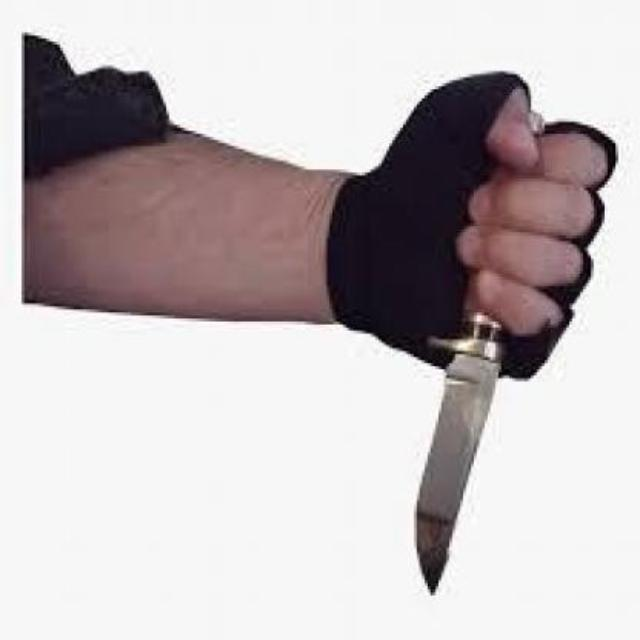Knife: (416, 113, 548, 602)
